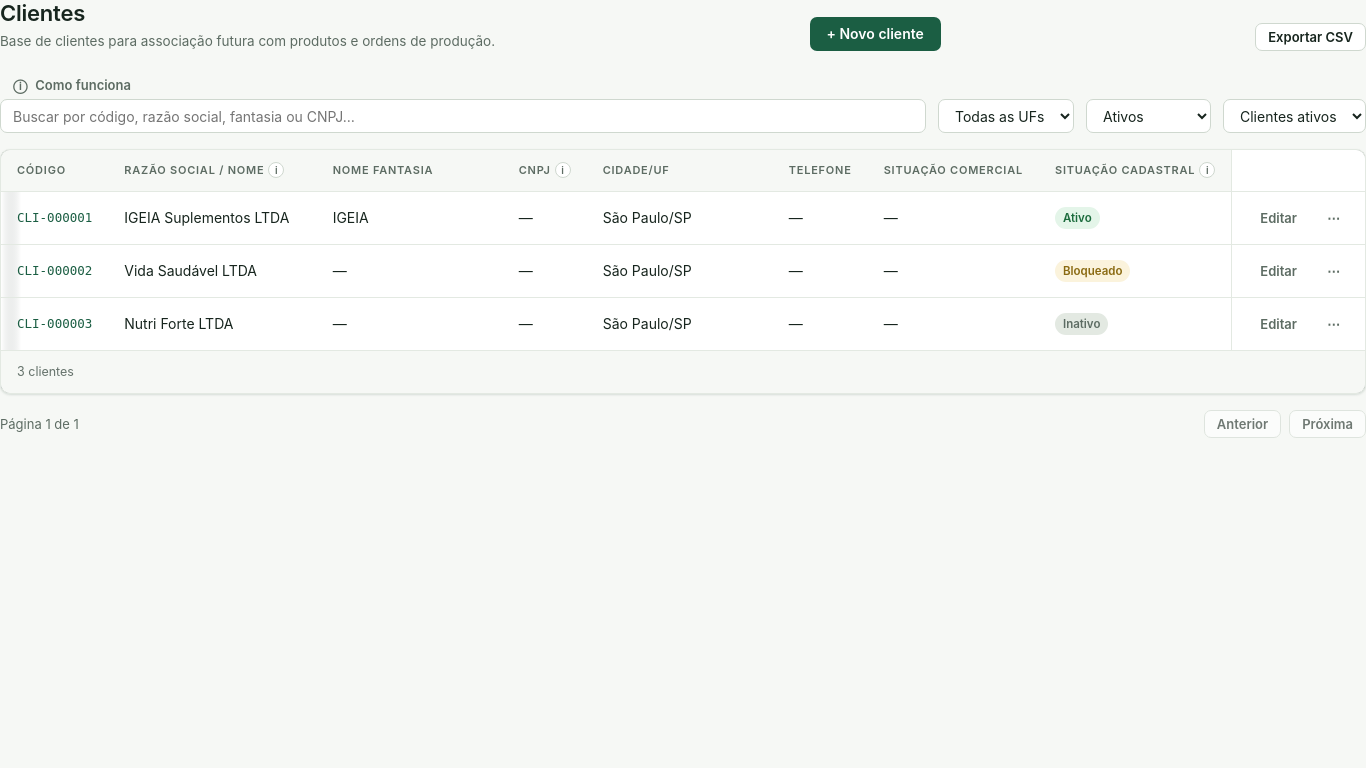
Test: CUSTOMER-STATUS-LIFECYCLE-01 — lista de Clientes › a recusa do servidor mantém o diálogo aberto, com o motivo digitado
expect the text "CLI-000001" is shown: met, box left=1, top=192, right=108, bottom=244
Click the button named "Mais ações de CLI-000001" at [1334, 218], box left=1318, top=204, right=1349, bottom=232
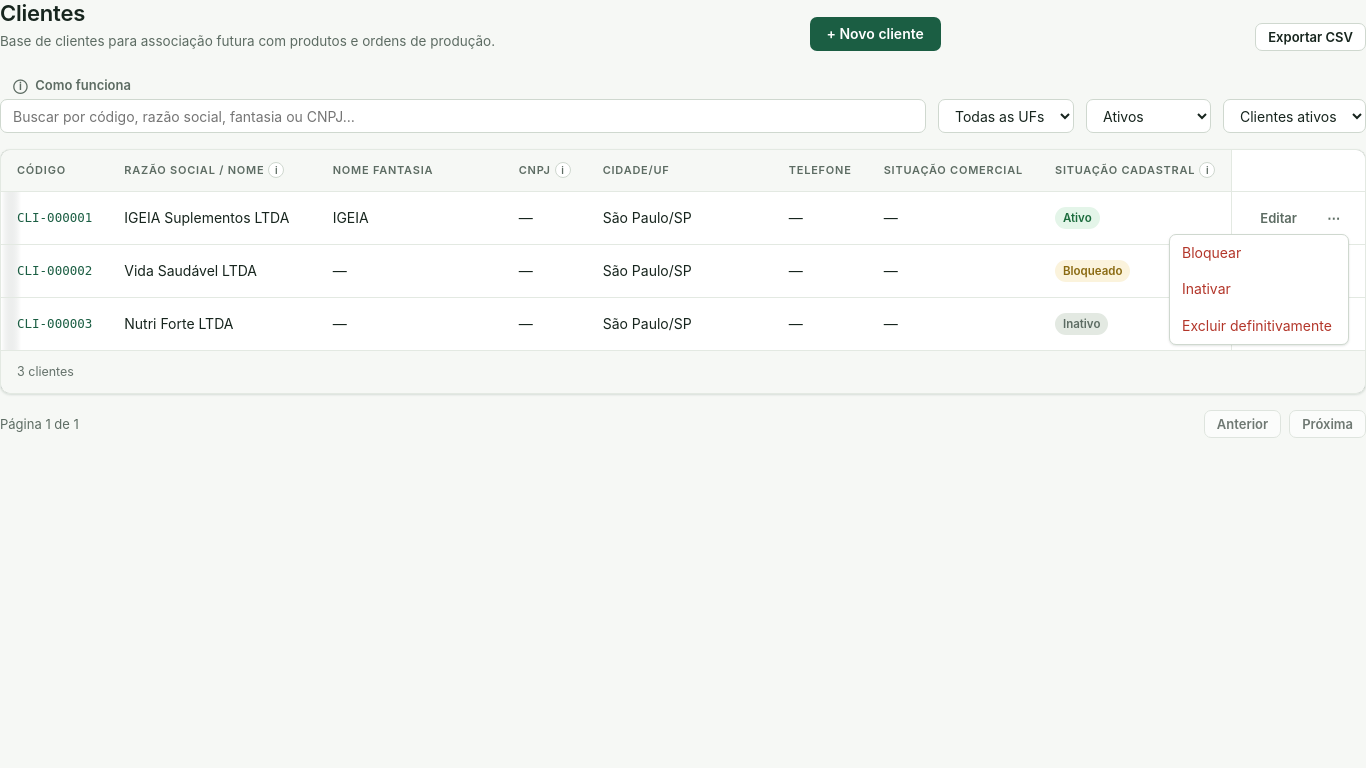
Click the menu item "Bloquear" at [1259, 253], box left=1170, top=235, right=1348, bottom=271
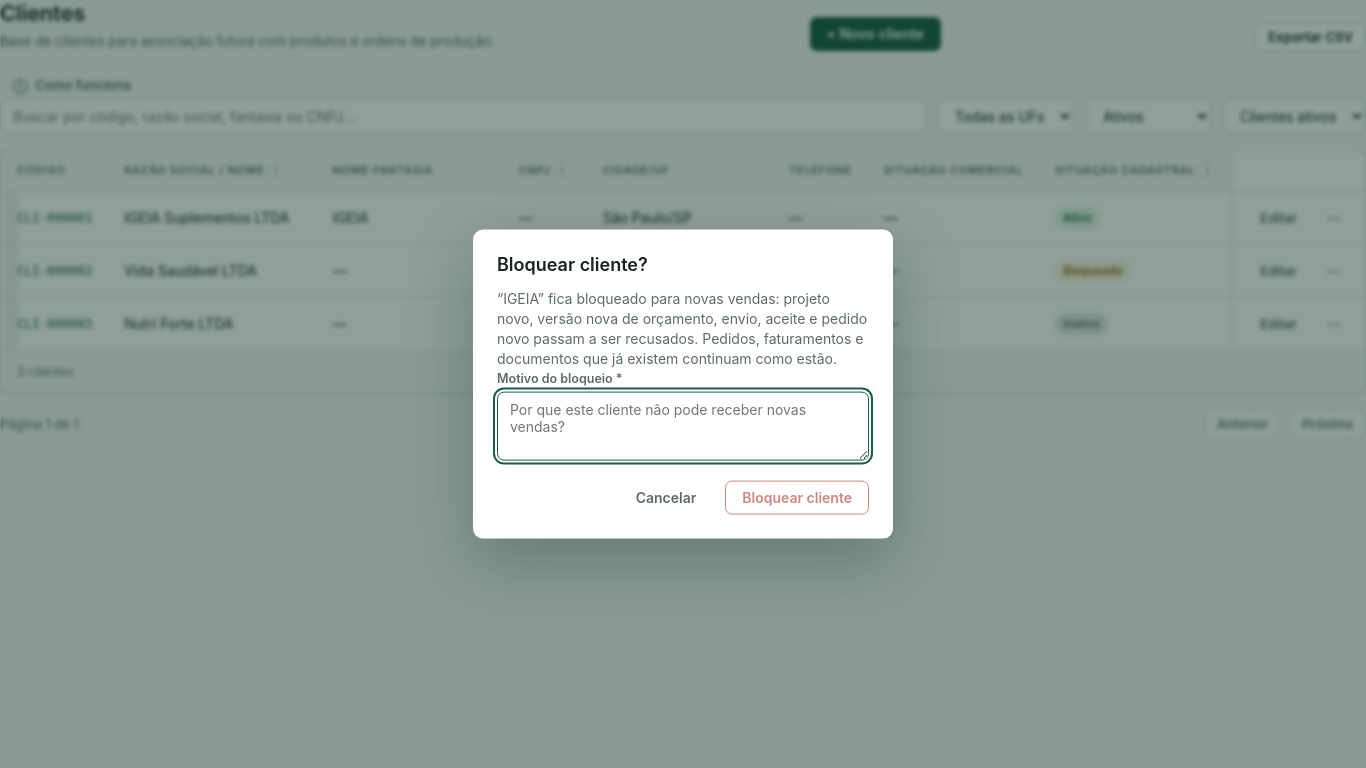
Type "Inadimplência" into the text box labelled "Motivo do bloqueio *" at [683, 426], box left=497, top=391, right=869, bottom=460
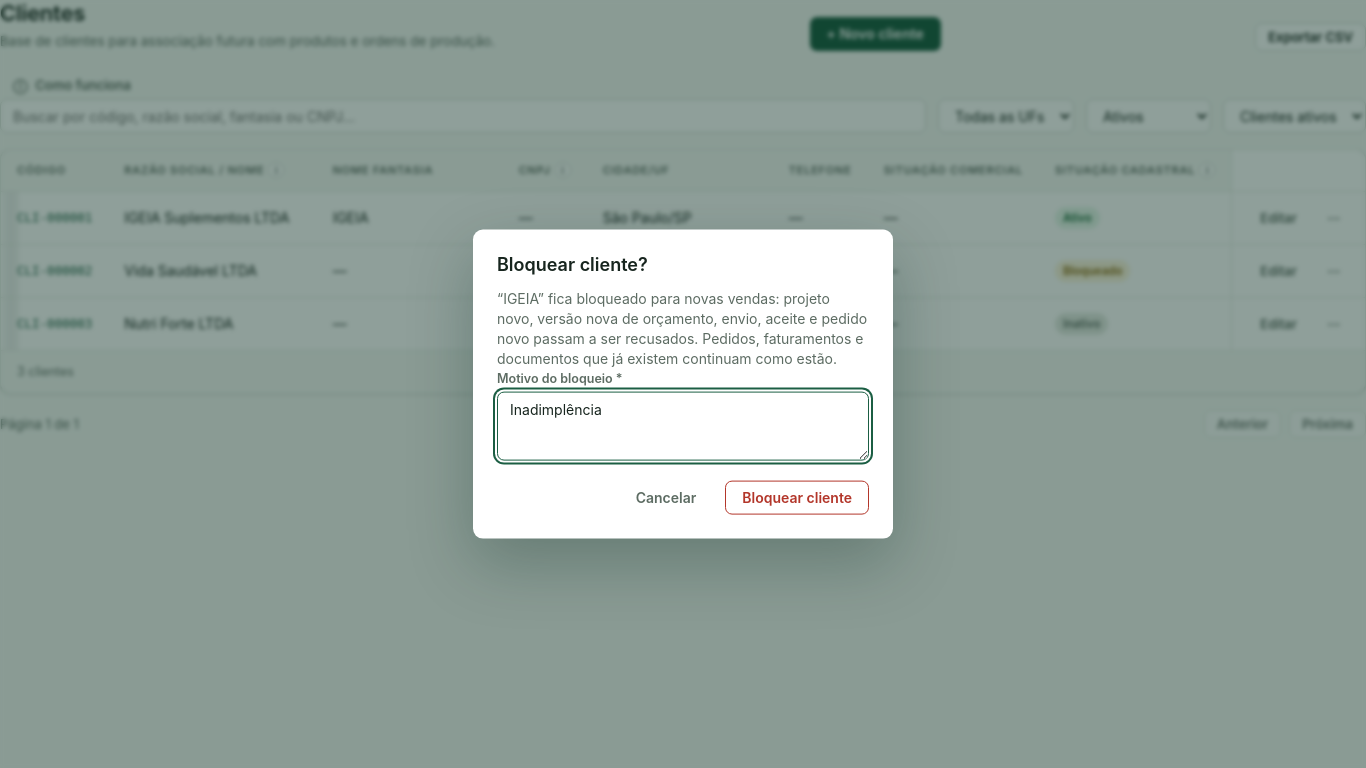
Click the button "Bloquear cliente" at [797, 497], box left=725, top=480, right=869, bottom=514
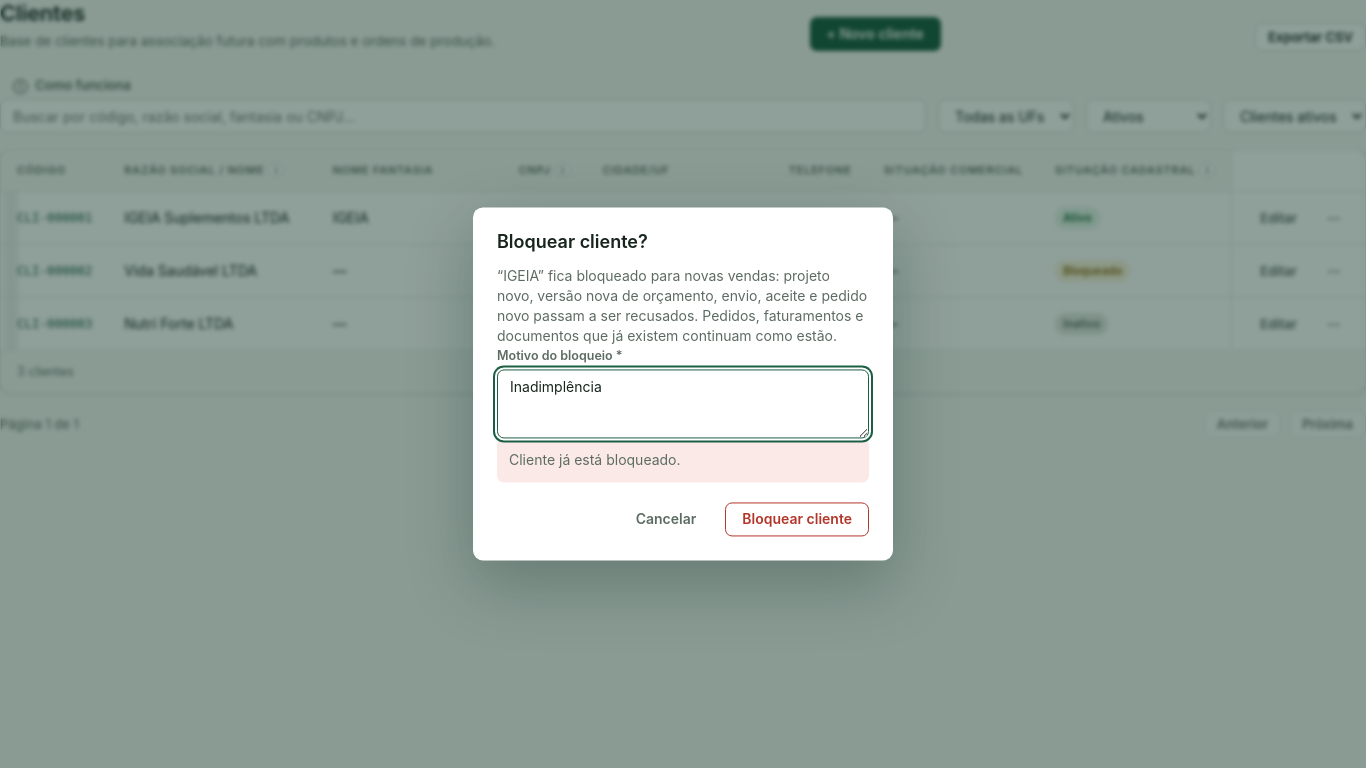
expect the message reads "Cliente já está bloqueado.": met, box left=509, top=451, right=680, bottom=468
